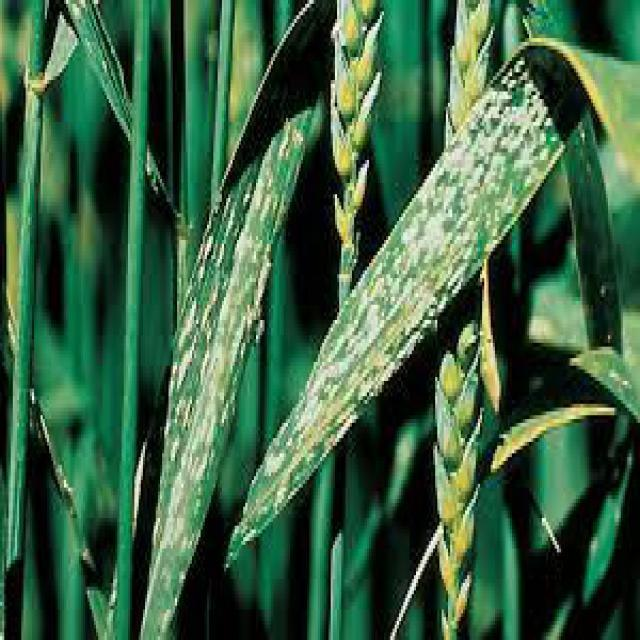Powdery_Mildew: (313, 60, 549, 506), (168, 149, 263, 593)
